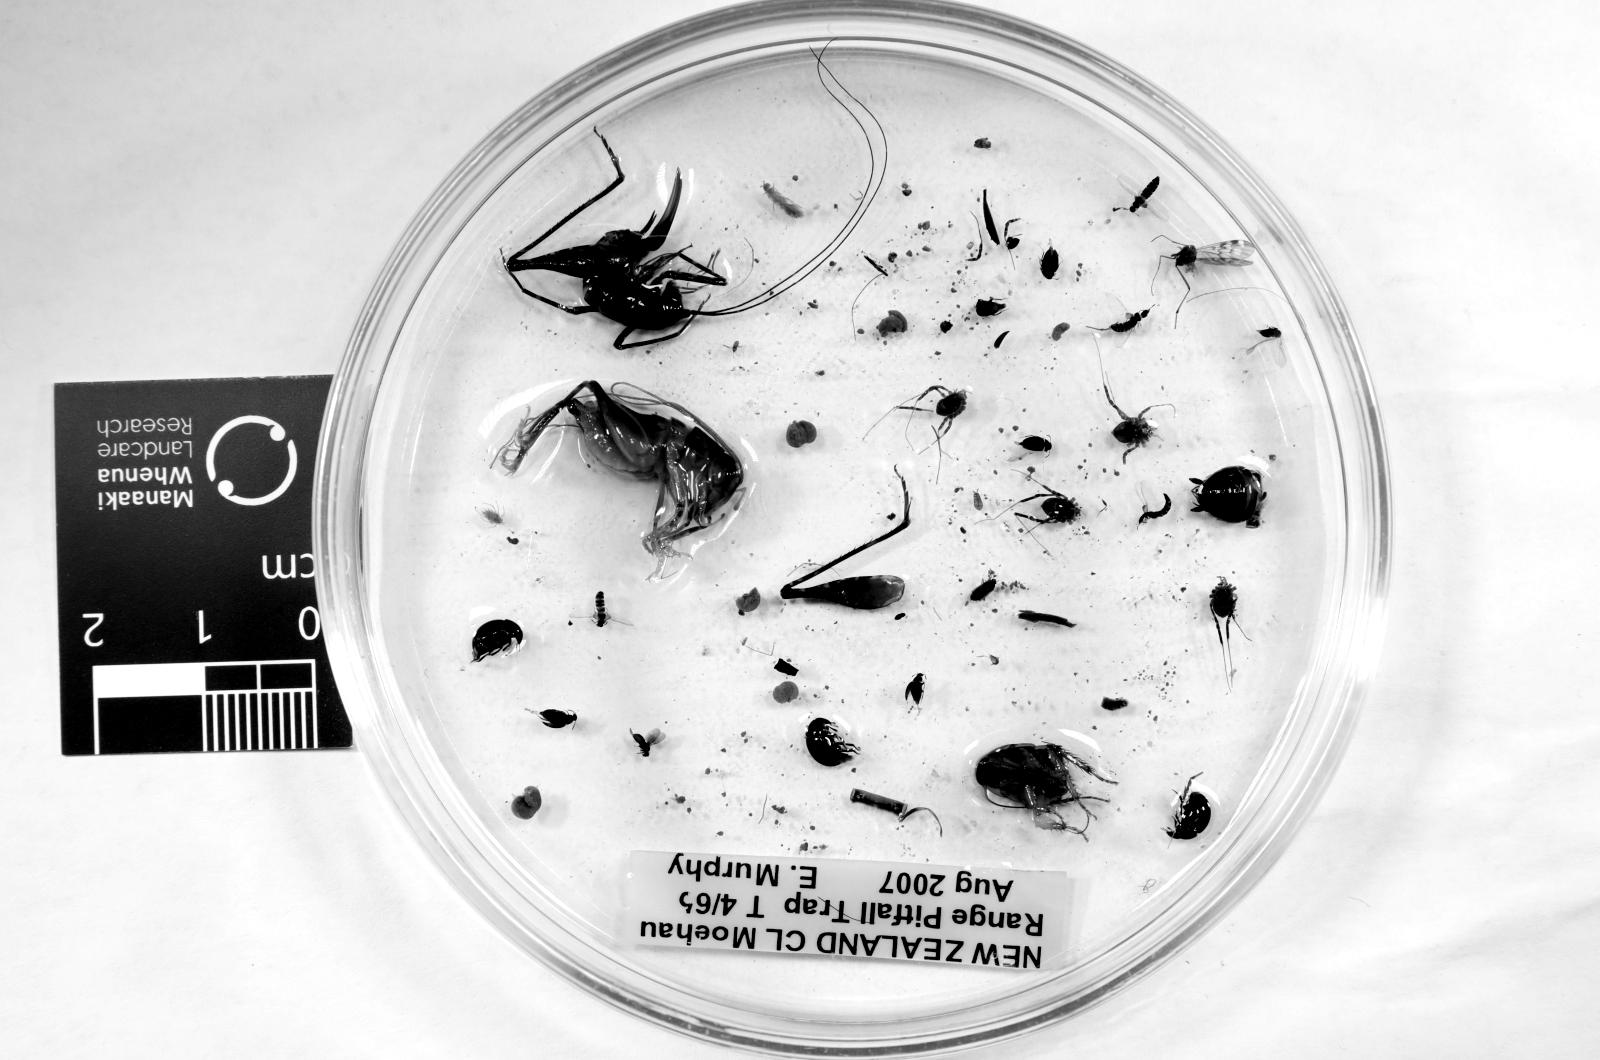coleoptera: (806, 717, 859, 767), (472, 618, 525, 661), (1166, 792, 1212, 838), (1134, 481, 1172, 519), (1128, 177, 1159, 214), (1106, 311, 1150, 332), (538, 708, 578, 730), (903, 674, 925, 705), (1019, 435, 1053, 453), (1041, 245, 1059, 279)
collembola: (762, 183, 803, 217)
diptera: (1162, 239, 1253, 286), (569, 593, 619, 624), (1250, 326, 1288, 366), (631, 730, 666, 758)
opiliones: (1103, 382, 1156, 457), (925, 385, 966, 441), (1209, 578, 1238, 646), (1041, 491, 1081, 522)
orthoptera: (497, 382, 744, 578), (506, 137, 728, 348)
